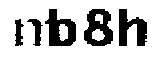8: (85, 6, 113, 47)
b: (49, 6, 78, 50)
h: (116, 6, 151, 49)
m: (11, 16, 53, 51)
